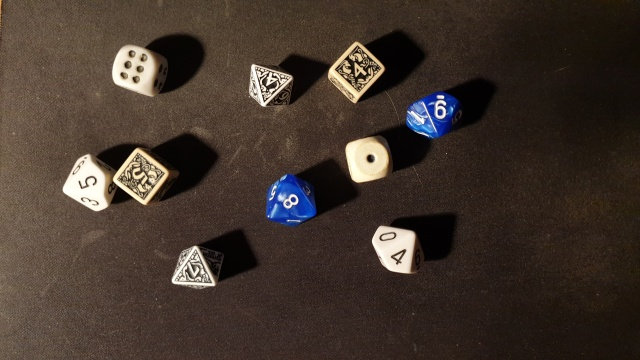d10-4: (383, 234, 420, 280)
d10-5: (62, 159, 111, 211)
d10-8: (268, 175, 319, 228)
d10-9: (411, 82, 464, 137)
d6-1: (343, 133, 397, 186)
d6-6: (104, 39, 165, 97)
d6p-4: (326, 36, 387, 105)
d6p-5: (112, 149, 174, 204)
d8p-4: (243, 56, 303, 116)
d8p-7: (164, 243, 226, 294)
